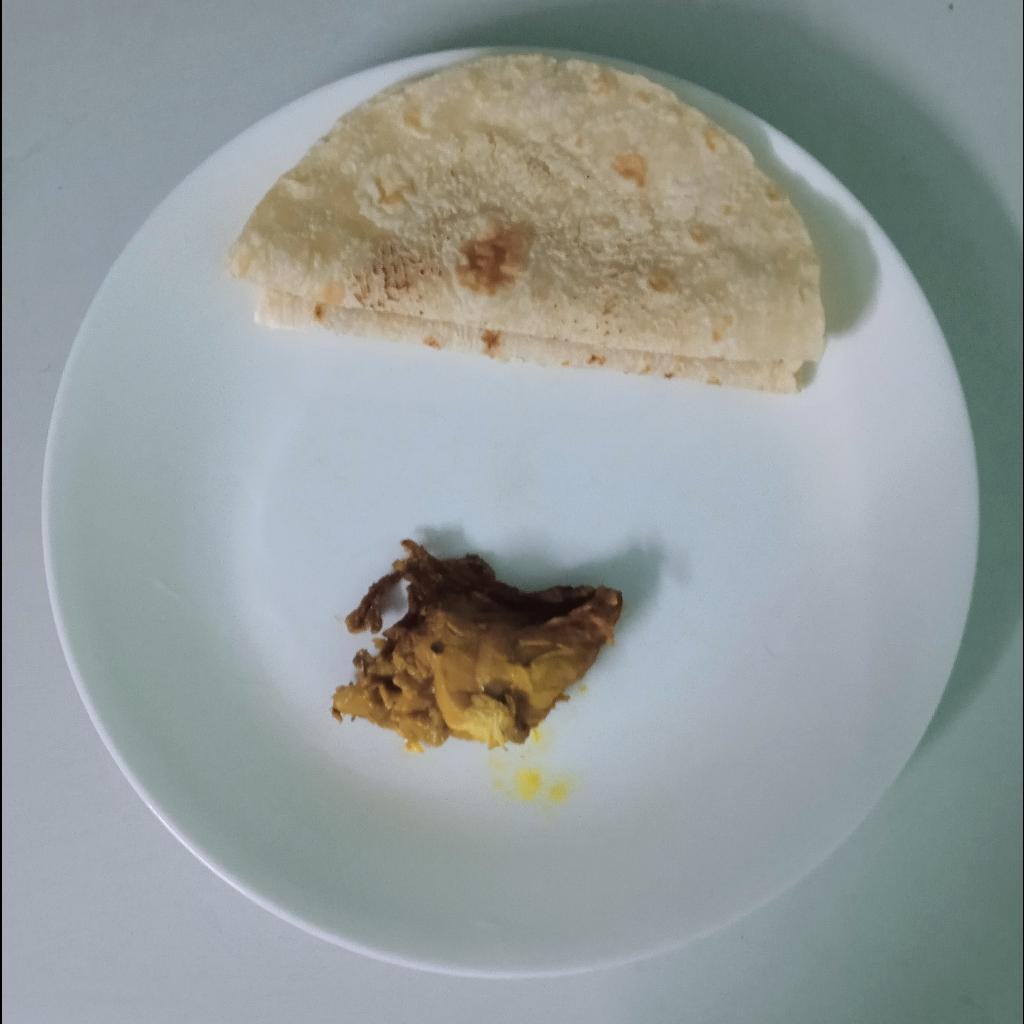chicken: (328, 536, 621, 751)
ruti: (218, 54, 825, 391)
